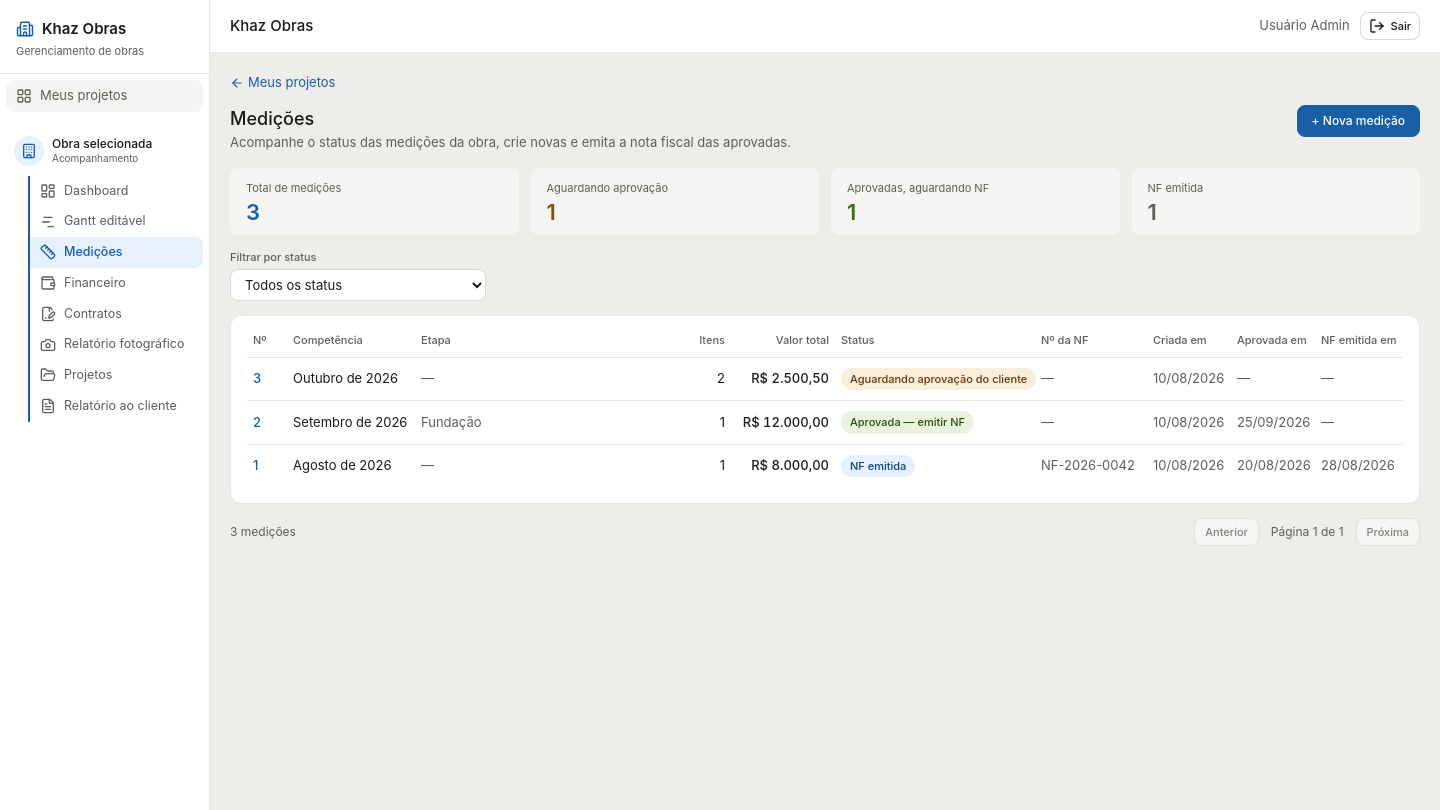
Test: Medições (admin) - lista › clicar no número abre o detalhe
Click the link named "Abrir medição 2". click: click(257, 422)
box: [253,414,261,430]
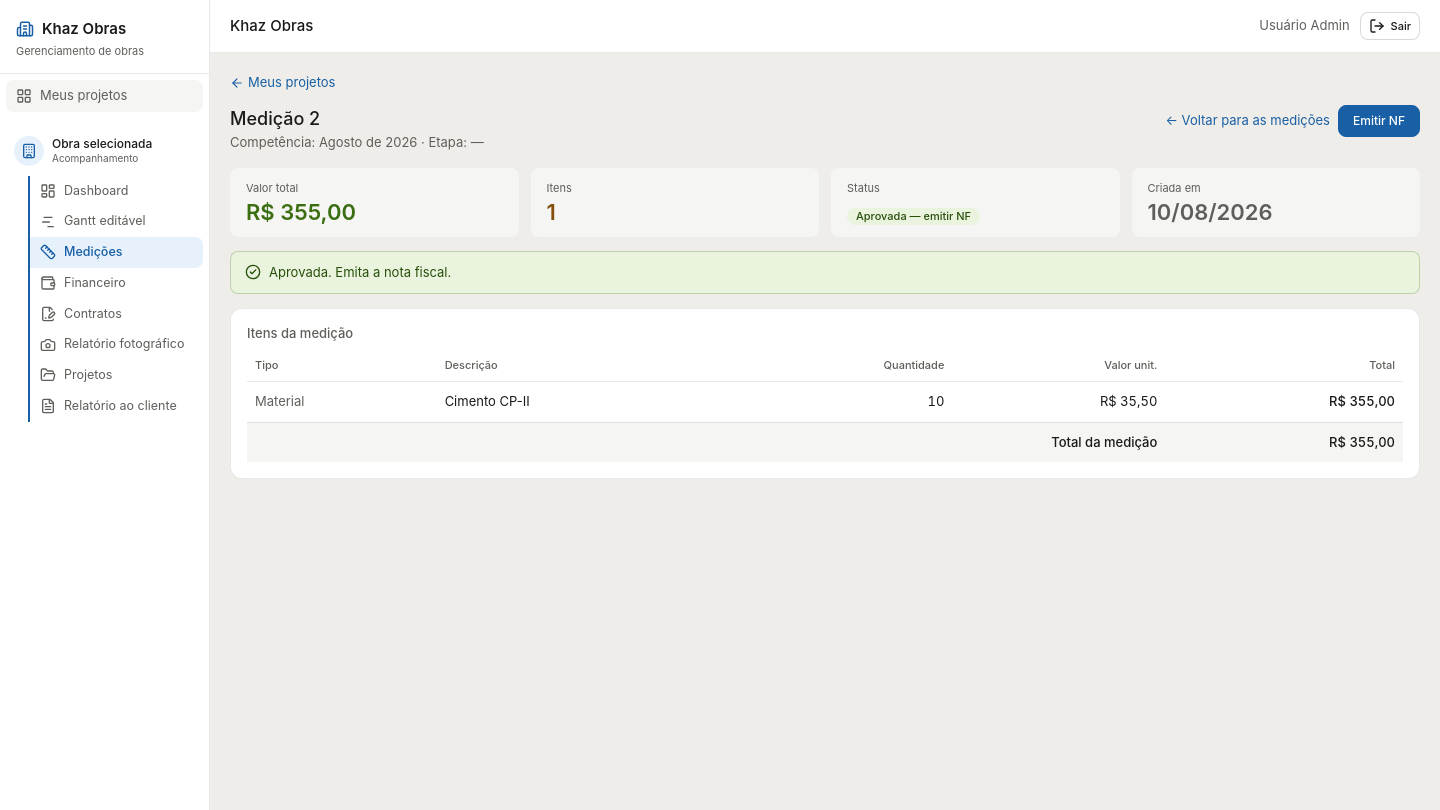
Result: the heading "Medição 2" is shown at [230,108,320,128]
